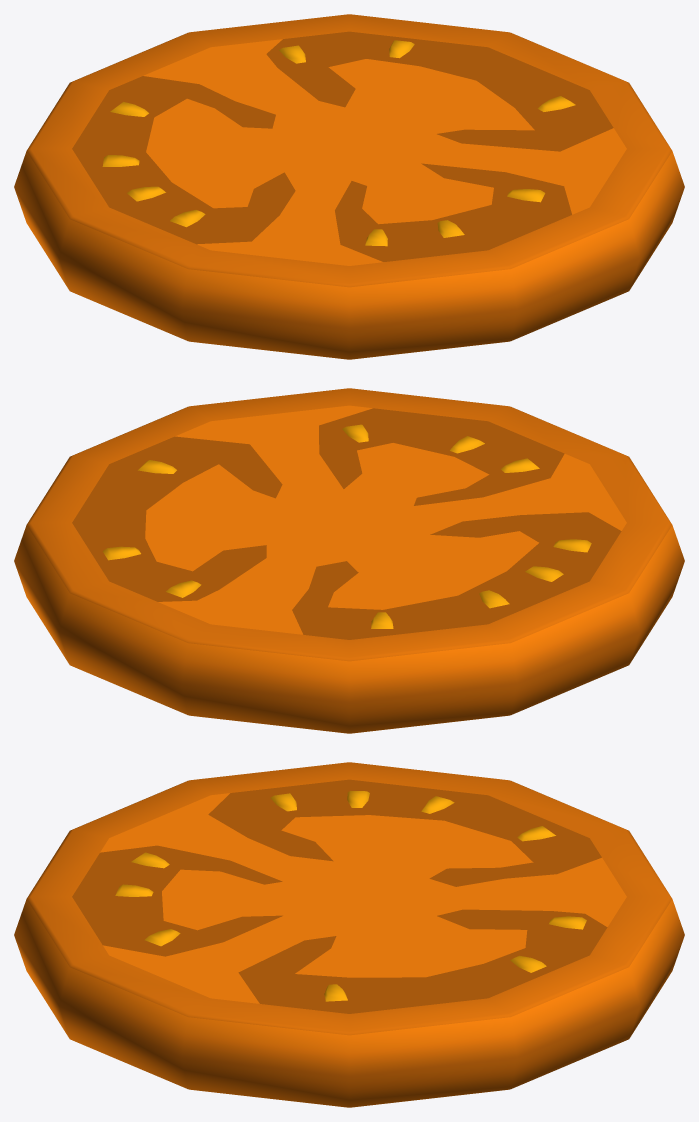
The model's file is Tomato_slice_yellow_Hotdog.fbx.
3 views of the same model, one above another, from view 1: azimuth 30°, elevation 25°; view 2: azimuth 150°, elevation 25°; view 3: azimuth 270°, elevation 25° (orthographic).
Visible parts, largest first — view 1: Tomato_slice_yellow_Hotdog; view 2: Tomato_slice_yellow_Hotdog; view 3: Tomato_slice_yellow_Hotdog.
Part boxes in pixels (x1,y1,x2,y2): Tomato_slice_yellow_Hotdog: (14,14,684,359); Tomato_slice_yellow_Hotdog: (14,388,684,733); Tomato_slice_yellow_Hotdog: (14,762,684,1107).
Size of the model in its own units: 59.32 by 59.32 by 8.21.
